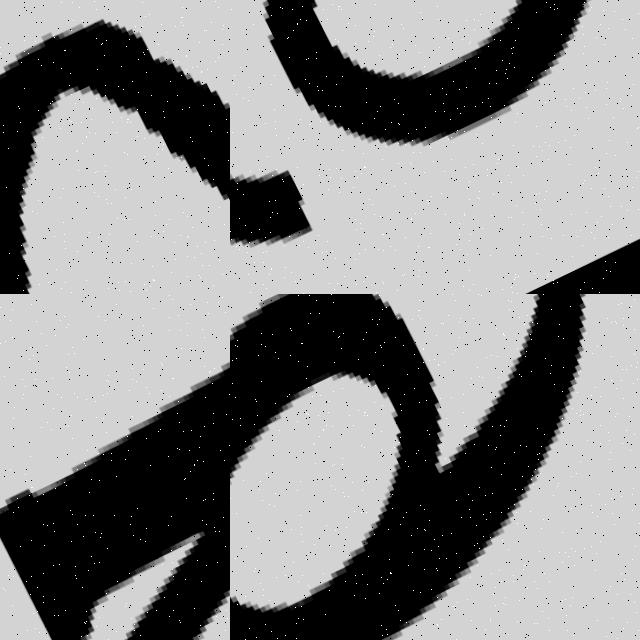6: (230, 0, 640, 293)
9: (230, 294, 640, 640)
S: (0, 0, 230, 294)
Y: (0, 294, 230, 640)
